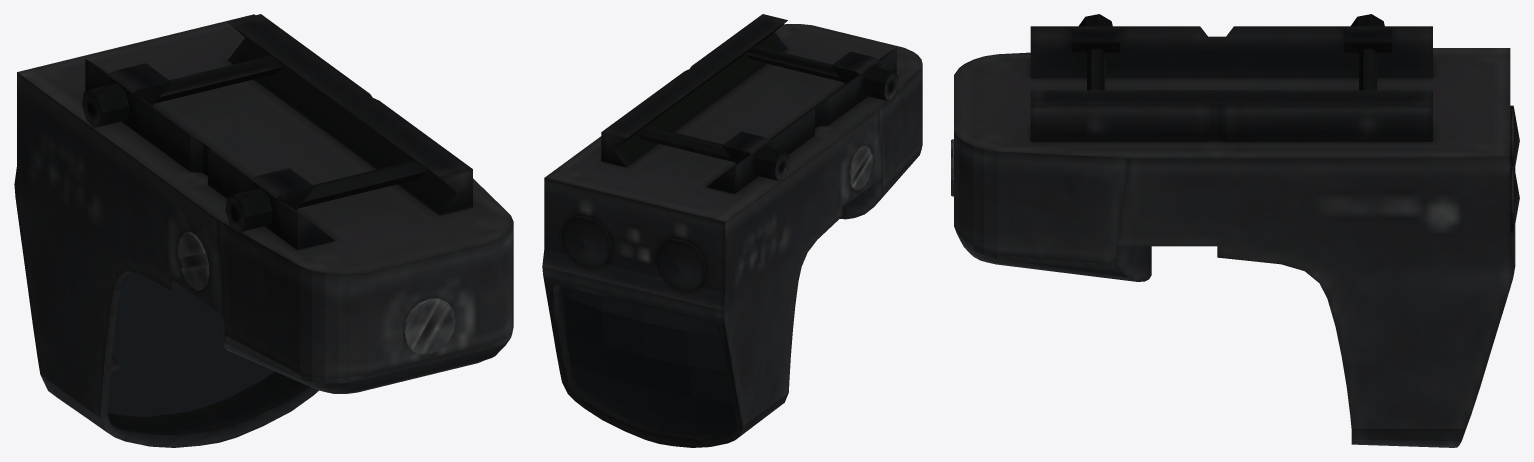
3 views of the same model, side by side, from view 1: azimuth 30°, elevation 25°; view 2: azimuth 150°, elevation 25°; view 3: azimuth 270°, elevation 25° (orthographic). The views are drawn at different scales.
Visible parts, largest first — view 1: TW_584984812459776a704a82a6_mode1_PZ_Import; view 2: TW_584984812459776a704a82a6_mode1_PZ_Import; view 3: TW_584984812459776a704a82a6_mode1_PZ_Import.
Boxes of the visible parts, left/top/right/bottom form: TW_584984812459776a704a82a6_mode1_PZ_Import: left=14, top=14, right=513, bottom=447; TW_584984812459776a704a82a6_mode1_PZ_Import: left=542, top=14, right=922, bottom=447; TW_584984812459776a704a82a6_mode1_PZ_Import: left=951, top=14, right=1519, bottom=447.
Size of the model in its own units: 0.0216 by 0.0468 by 0.0329.
Materials: 1 (1 with a texture image).
